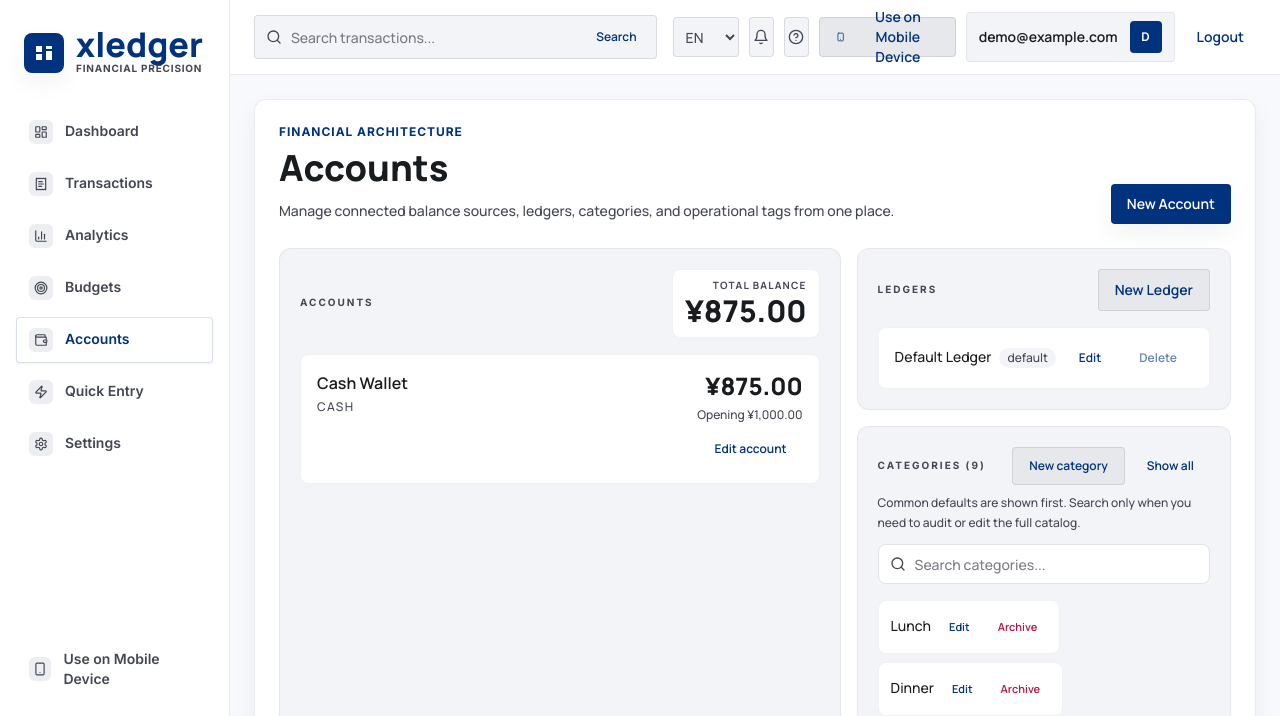
Test: accounting settings domain › keeps newly created categories visible when the preview list is full
The image size is (1280, 716).
Check: the text "Lunch" is shown, box [891,617,931,637]
Click the button "New category" at {"x": 1069, "y": 466}, box [1012,447,1125,485]
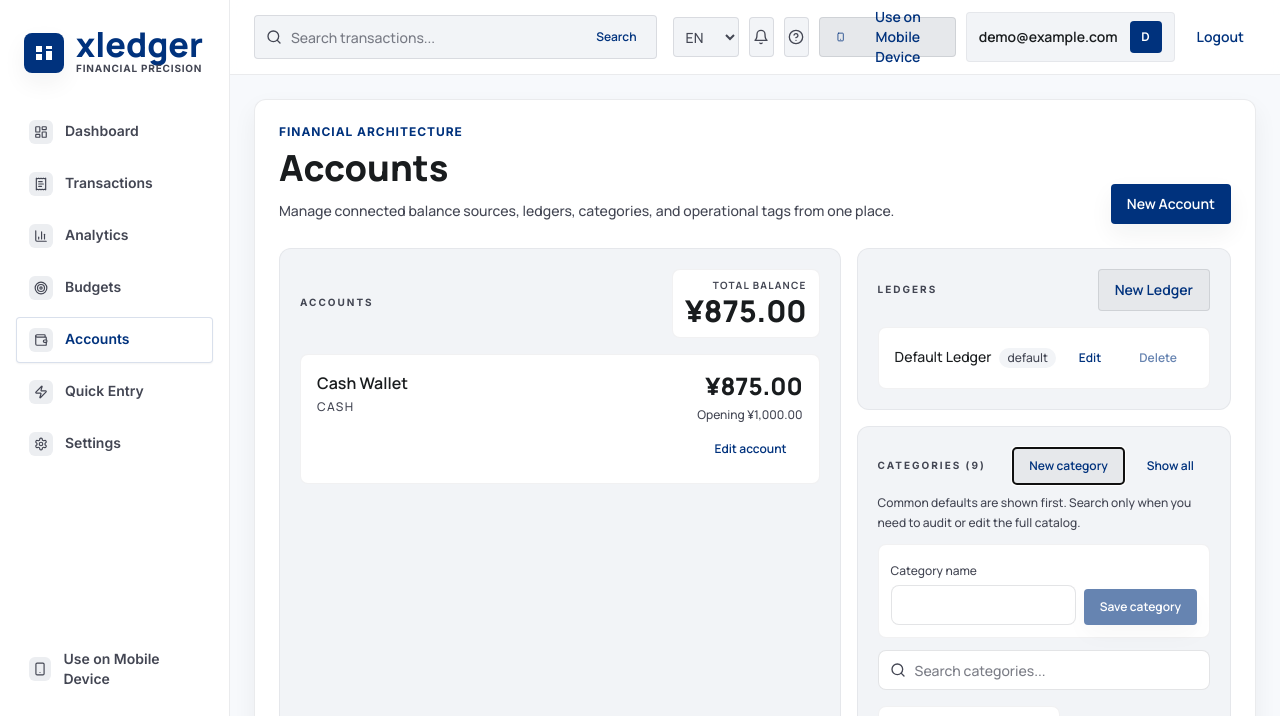
Type "Subscriptions" into the field labelled "Category name" at {"x": 983, "y": 605}, box [891,585,1076,625]
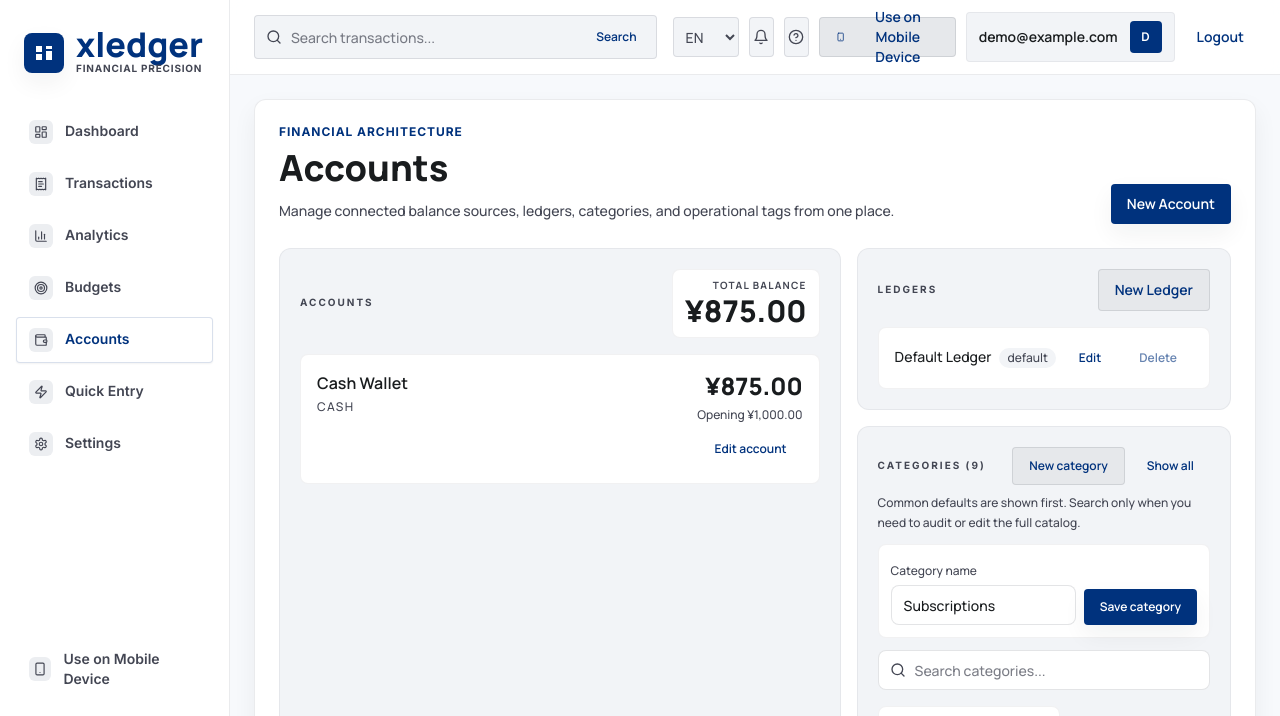
Click the button "Save category" at {"x": 1140, "y": 607}, box [1084,589,1197,625]
(page scrolled)
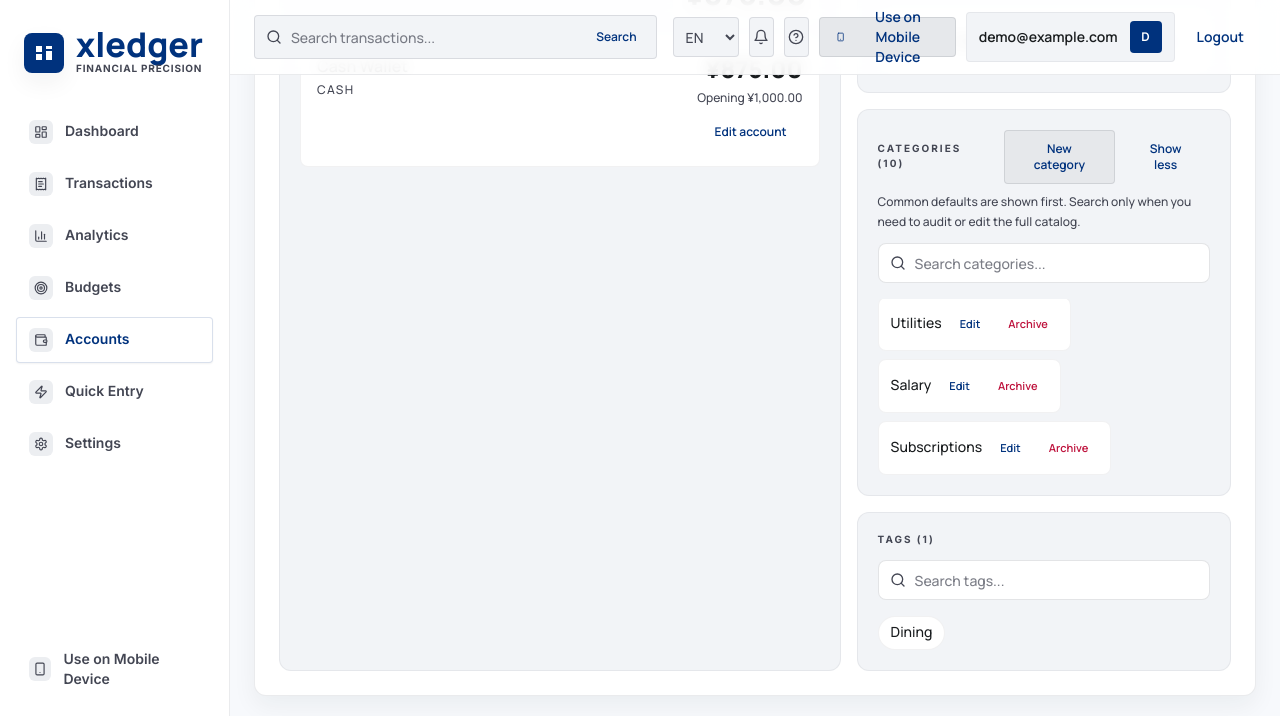
Check: the text "Subscriptions" is shown, box [891,438,982,458]
